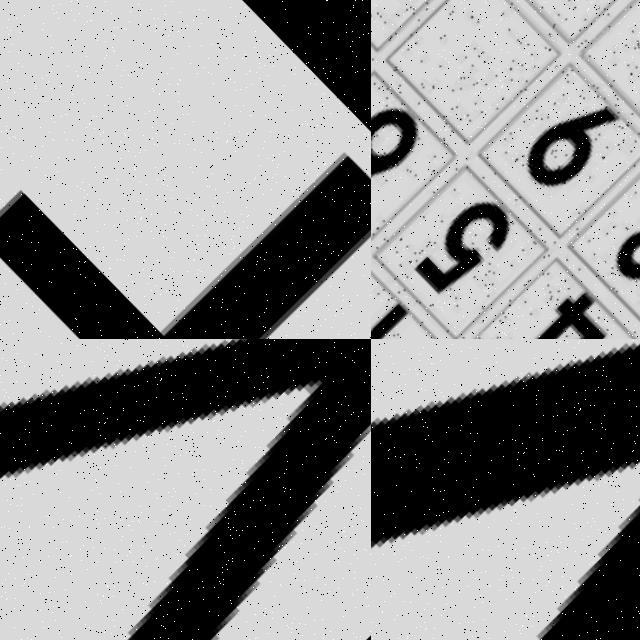1: (371, 294, 425, 339)
4: (498, 280, 624, 339)
5: (402, 186, 528, 310)
6: (371, 94, 432, 211)
8: (600, 179, 640, 297)
9: (510, 82, 634, 204)
F: (0, 0, 371, 339)
V: (0, 339, 371, 640), (371, 339, 640, 640)
